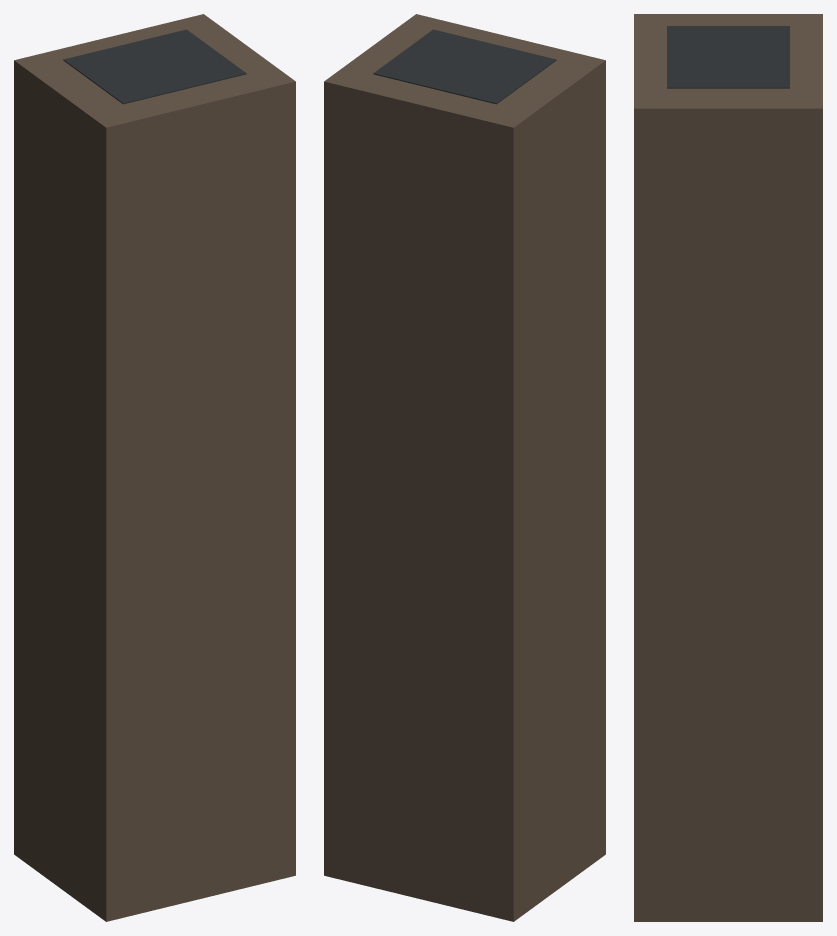
Rendered from P036-blockout-v1.glb.
3 views of the same model, side by side, from view 1: azimuth 30°, elevation 25°; view 2: azimuth 150°, elevation 25°; view 3: azimuth 270°, elevation 25° (orthographic). The views are drawn at different scales.
Visible parts, largest first — view 1: 煙囪, 煙口暗面; view 2: 煙囪, 煙口暗面; view 3: 煙囪, 煙口暗面.
Part boxes in pixels (x1,y1,x2,y2): 煙囪: (14, 14, 295, 921); 煙口暗面: (63, 29, 246, 104); 煙囪: (324, 14, 605, 921); 煙口暗面: (373, 29, 556, 104); 煙囪: (634, 14, 822, 921); 煙口暗面: (667, 26, 789, 88).
Bounding box in the file's own units: 0.95 × 3.82 × 0.8.
